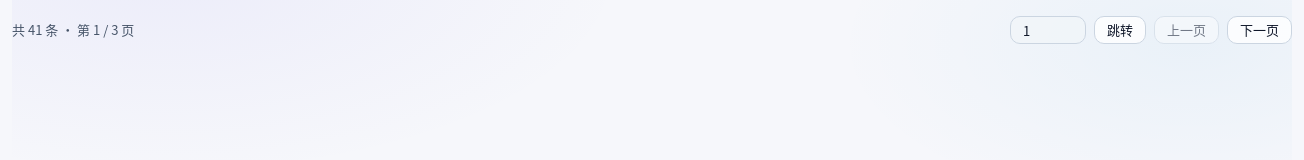
Test: Pagination › does not navigate to an invalid page number
Replace the text in the number field named "跳转到第几页" with "4" at coordinates (1048, 30), box top-left (1010, 16), bottom-right (1086, 44)
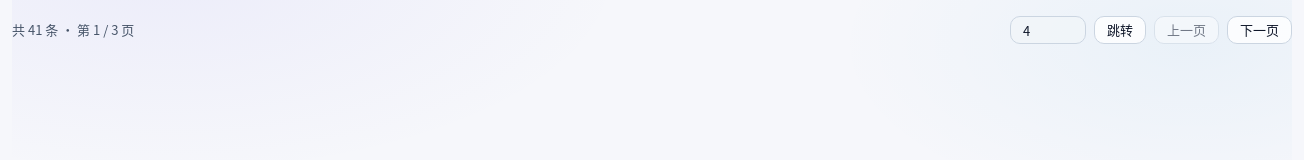
Click the button "跳转".
click(1120, 30)  # box top-left (1094, 16), bottom-right (1146, 44)
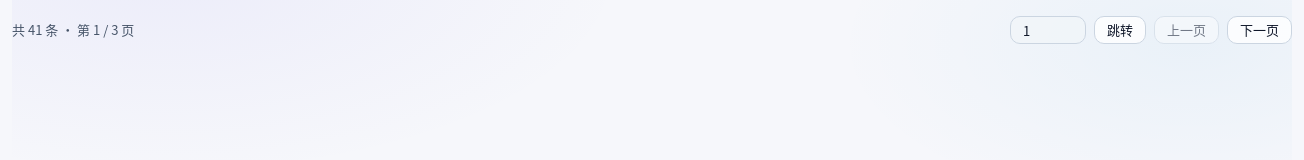
Check: the number field named "跳转到第几页" holds "1", box top-left (1010, 16), bottom-right (1086, 44)
